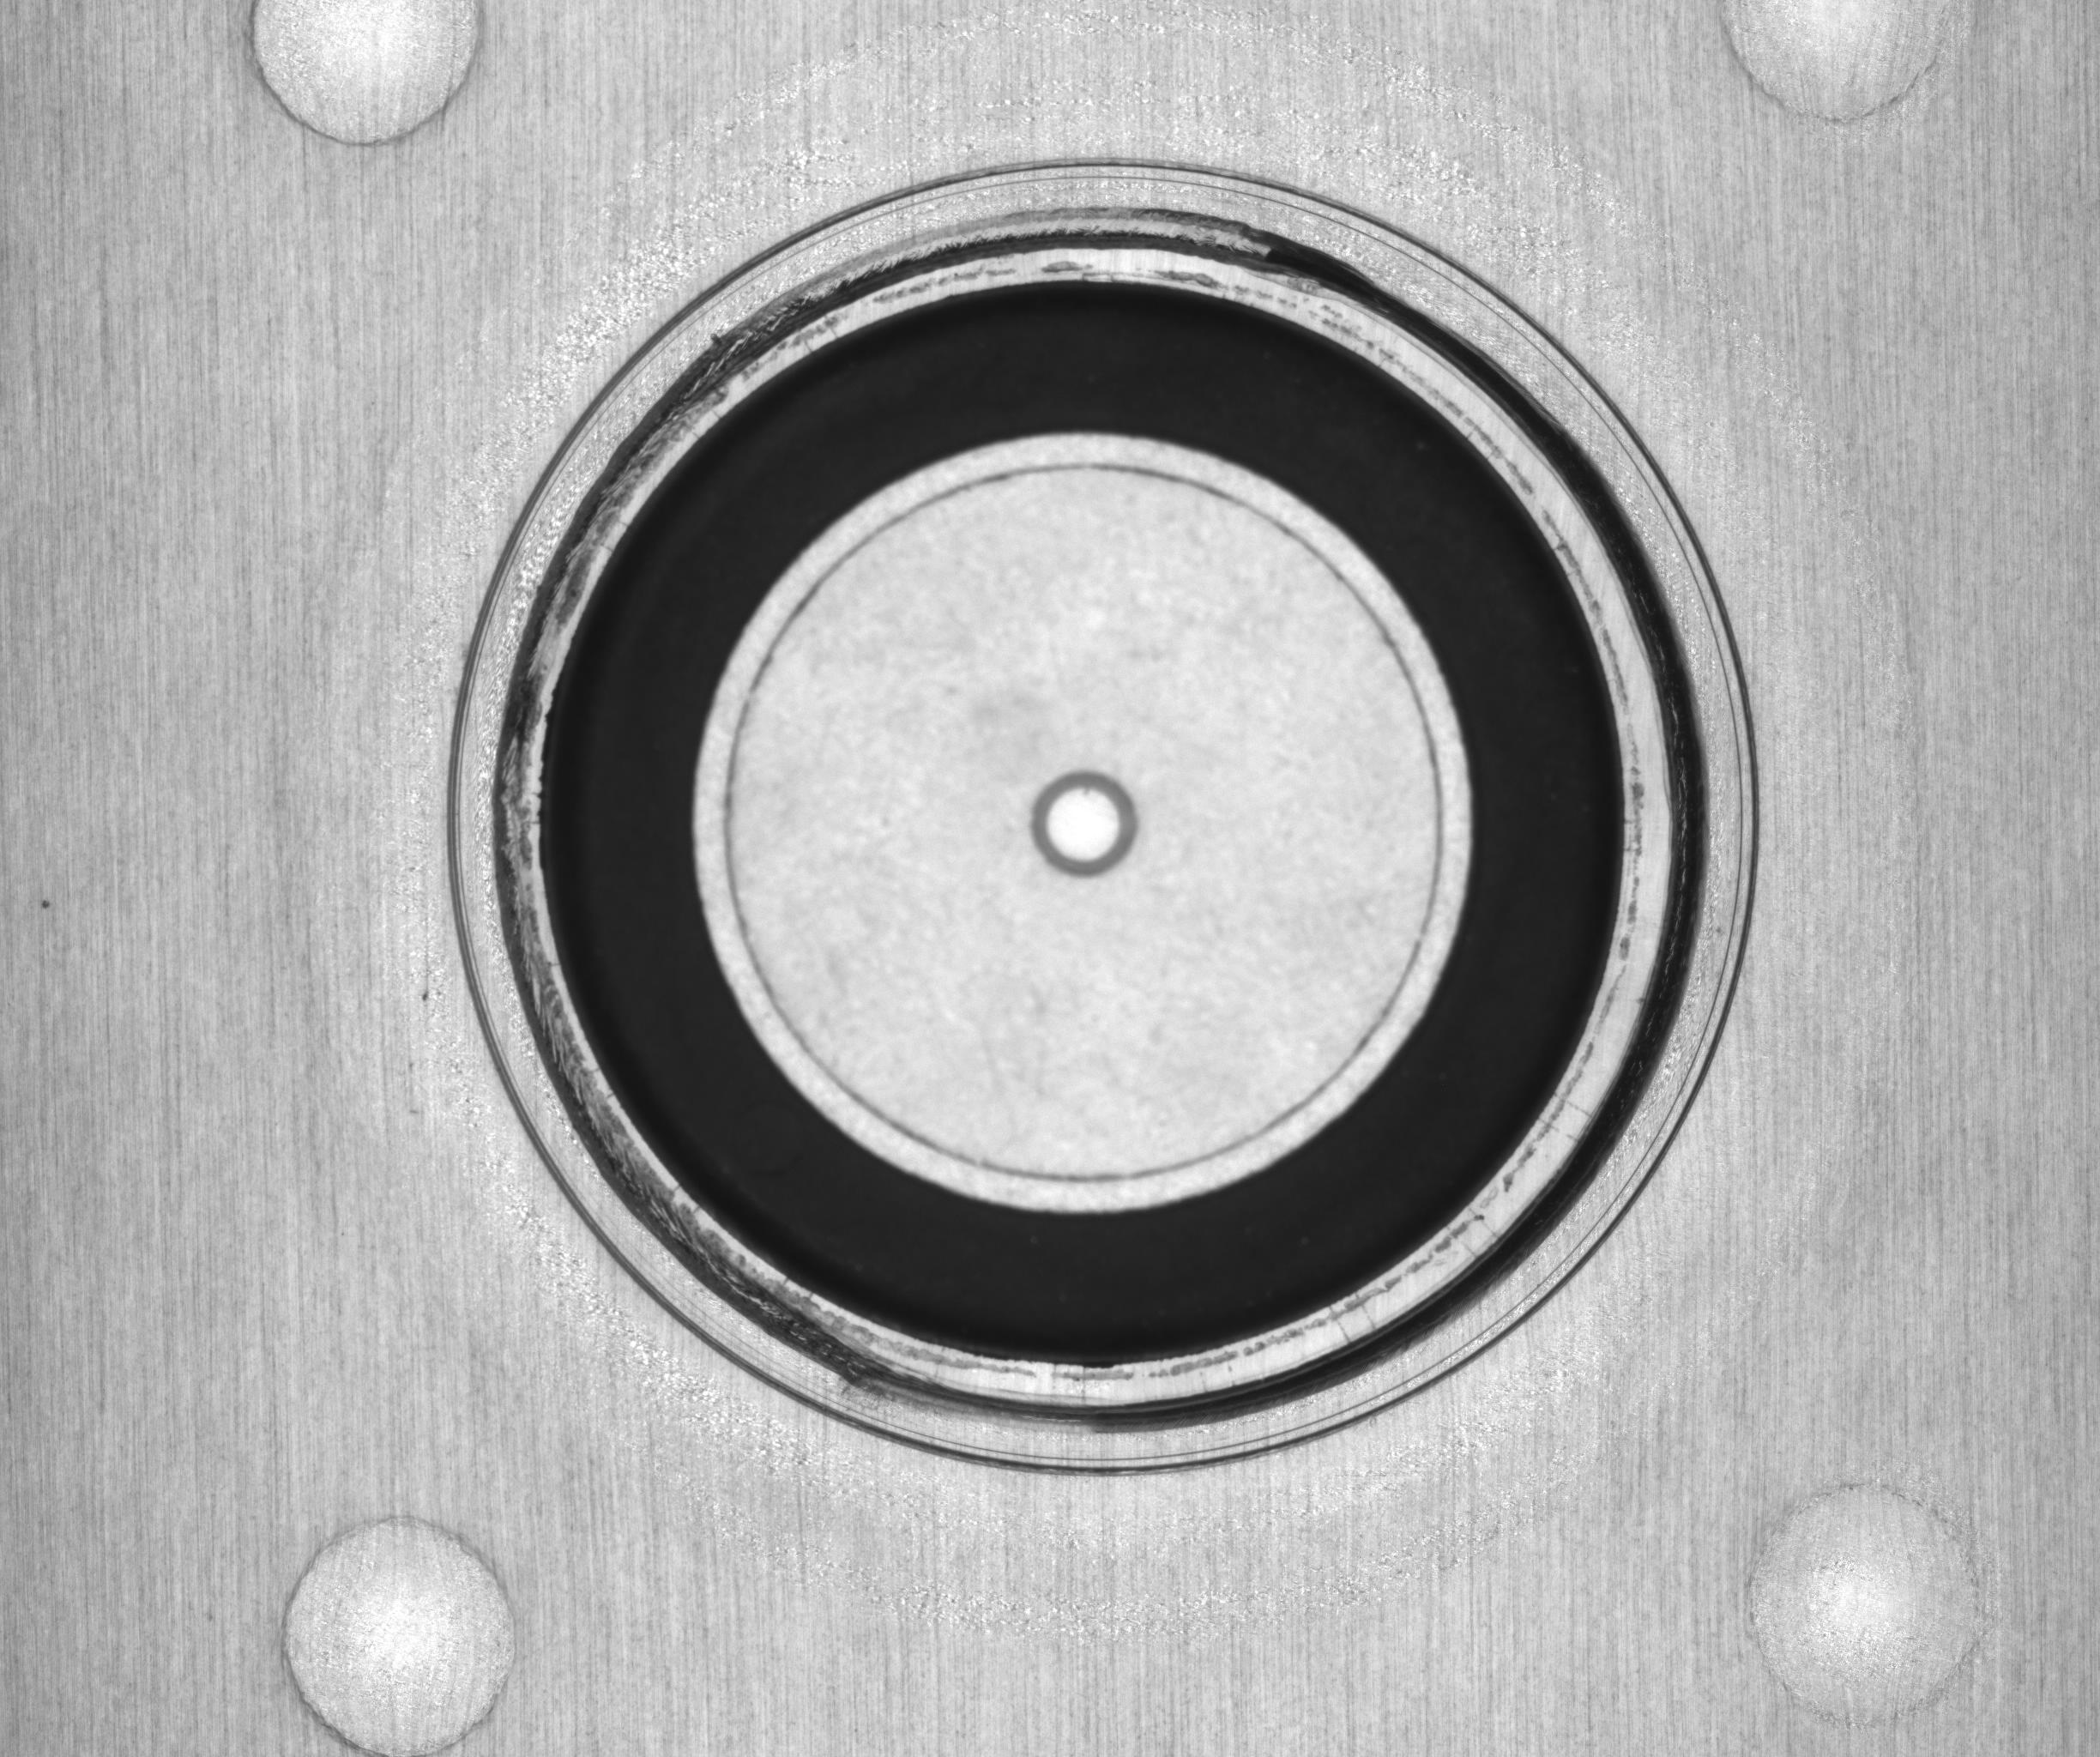shifting: (429, 154, 1810, 1483)
